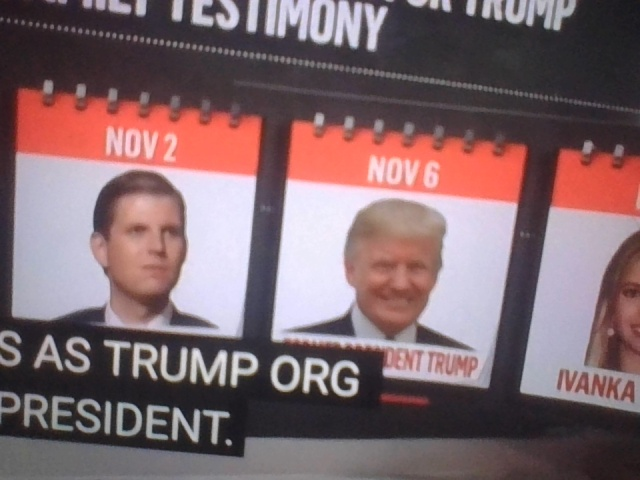fake: (99, 152, 205, 303)
